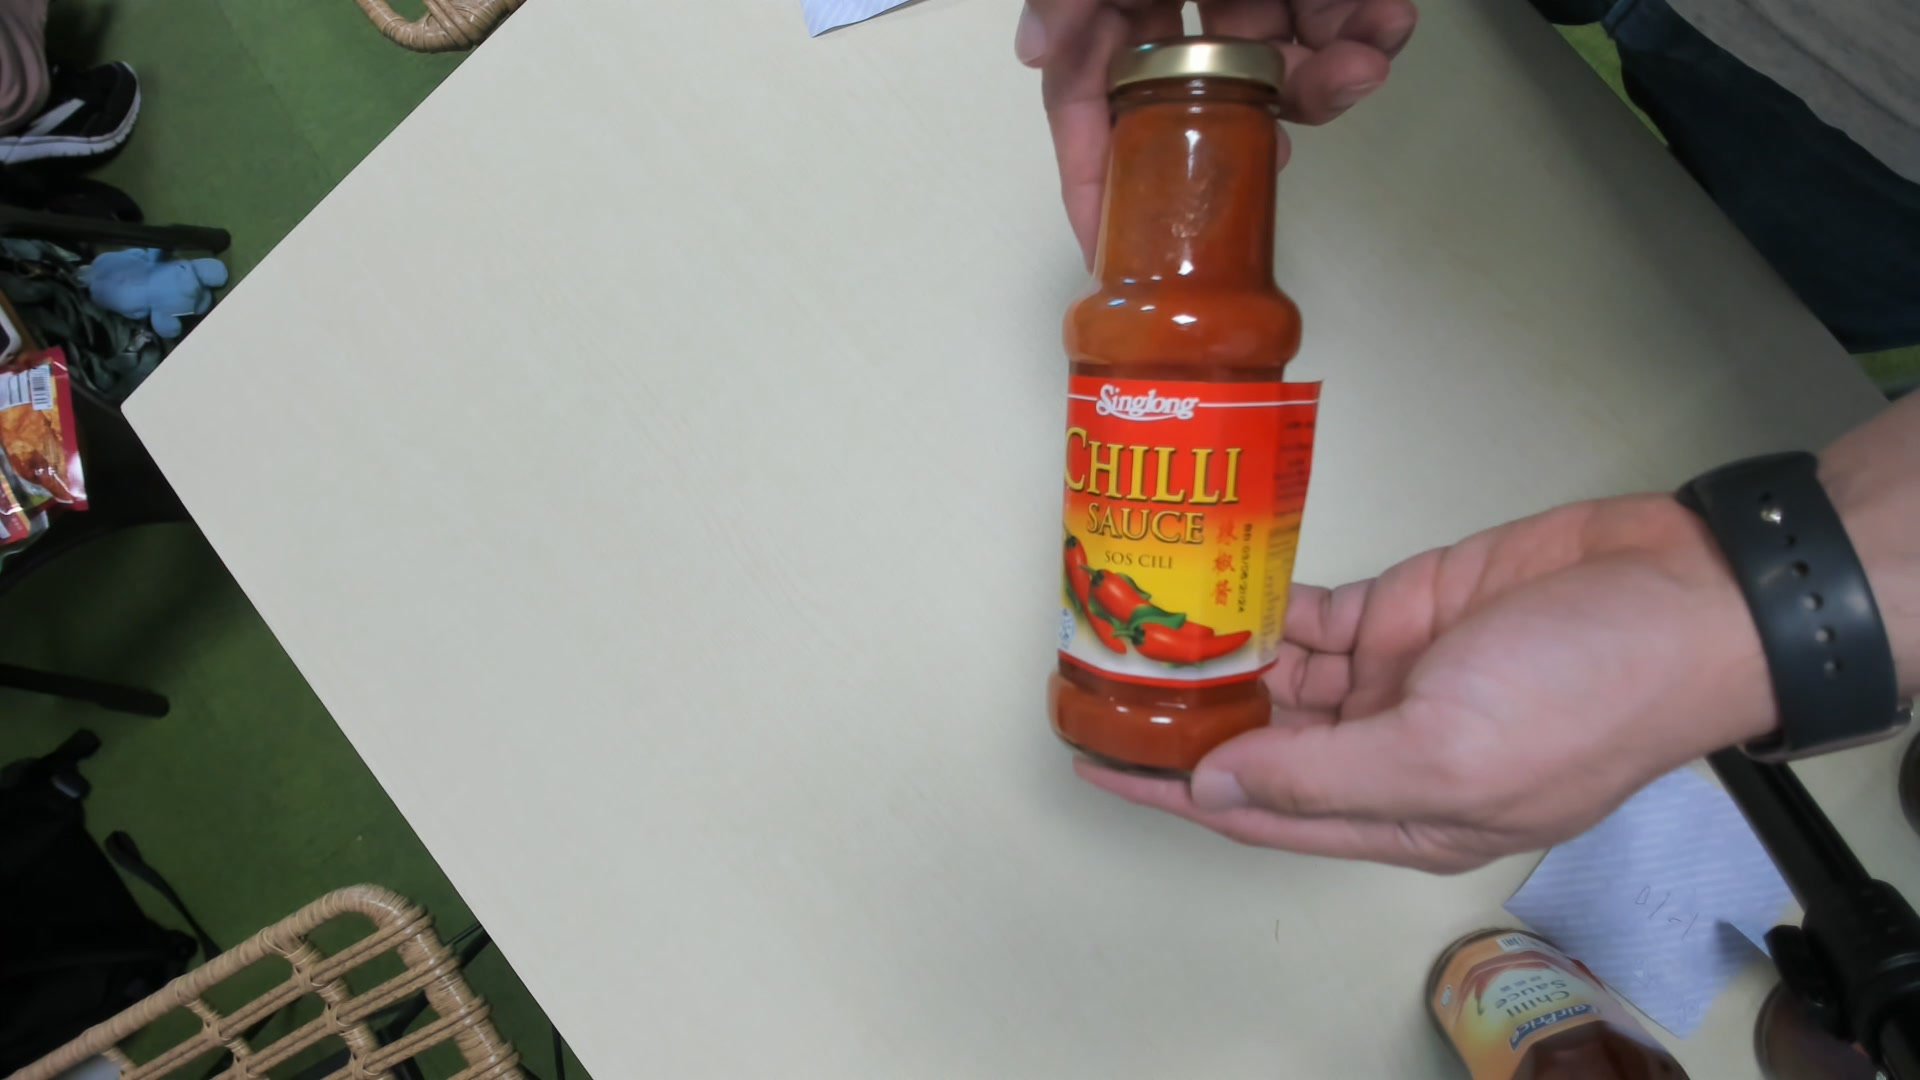KetchupChillSauce_200-299g_Halal_NonHealthy: (1042, 32, 1308, 781)
